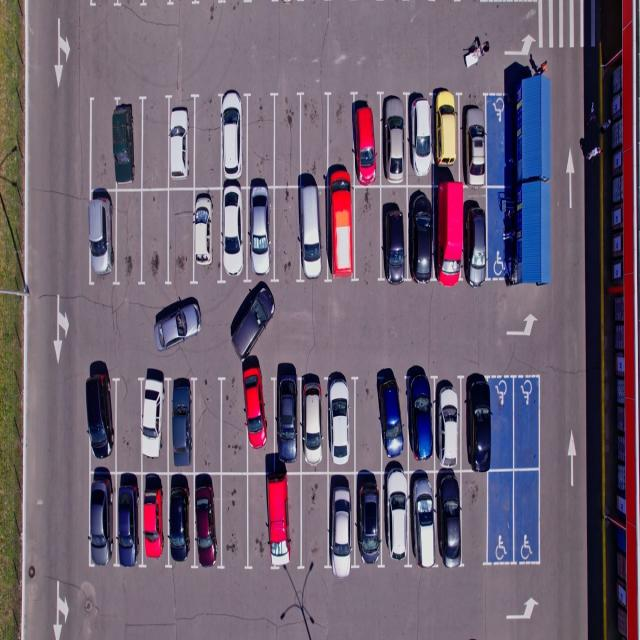space-empty: (299, 474, 331, 571), (485, 470, 517, 567), (352, 187, 384, 283), (139, 192, 171, 288), (193, 377, 225, 472), (220, 371, 250, 471), (114, 191, 146, 284), (114, 375, 145, 469), (459, 468, 488, 567), (510, 470, 540, 565), (272, 185, 300, 285), (220, 475, 250, 568), (193, 97, 224, 187), (352, 375, 382, 468), (509, 376, 539, 469), (245, 94, 276, 183), (167, 192, 196, 286), (244, 476, 272, 572), (141, 96, 170, 186), (488, 375, 516, 468), (298, 94, 328, 179), (273, 95, 302, 182), (87, 100, 114, 190), (328, 94, 356, 179)
space-occupied: (267, 472, 304, 570), (432, 182, 465, 286), (244, 370, 278, 470), (378, 468, 412, 568), (352, 470, 385, 571), (83, 374, 116, 474), (409, 471, 442, 571), (136, 474, 170, 570), (328, 471, 360, 571), (296, 184, 328, 283), (375, 373, 408, 469), (113, 100, 147, 192), (296, 375, 328, 472), (217, 186, 249, 283), (327, 185, 359, 282), (167, 376, 200, 470), (326, 376, 359, 470), (192, 472, 224, 568), (248, 188, 280, 284), (113, 472, 145, 568), (407, 187, 438, 286), (464, 377, 496, 472), (466, 188, 496, 289), (138, 377, 170, 471), (378, 187, 409, 284), (167, 474, 198, 570), (430, 93, 463, 183), (274, 374, 304, 472), (406, 373, 437, 467), (379, 95, 411, 186), (193, 188, 224, 281), (168, 98, 200, 188), (86, 191, 116, 286), (406, 93, 438, 182), (435, 470, 464, 568), (461, 93, 492, 184), (86, 472, 115, 569), (432, 378, 463, 468), (218, 95, 249, 183), (352, 97, 382, 185)
